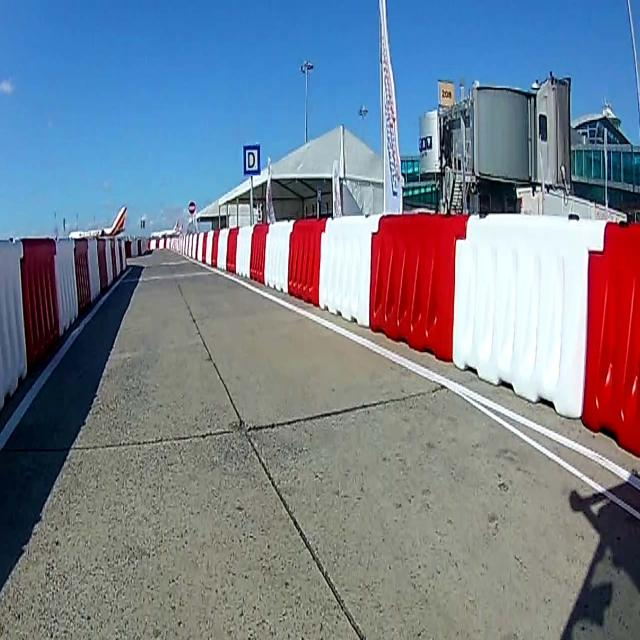durak: (242, 143, 262, 176)
girisyok: (188, 200, 196, 215)
